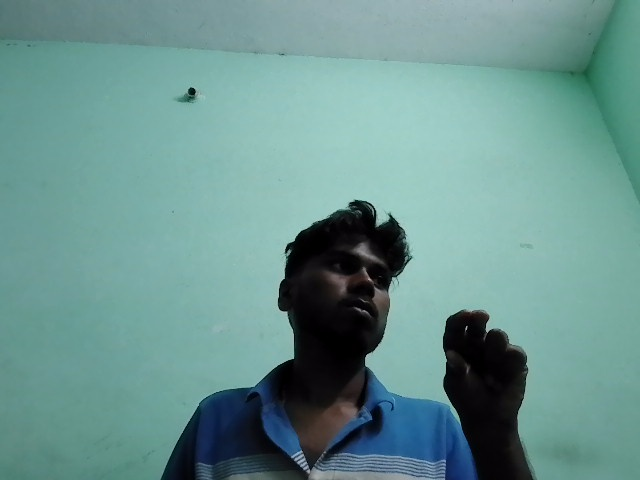No: (418, 290, 559, 451)
